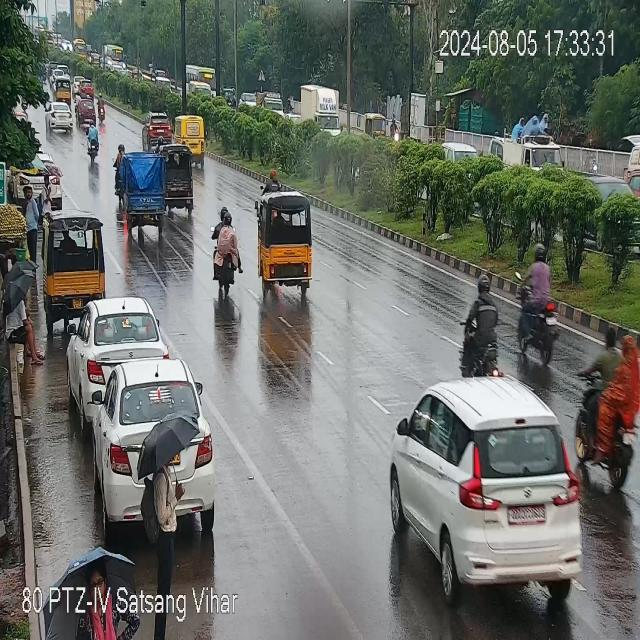2-wheelers: (574, 328, 638, 496), (459, 280, 505, 380), (518, 254, 556, 358), (210, 207, 240, 293), (85, 125, 103, 162), (94, 94, 110, 123)
auto: (256, 192, 320, 292), (113, 150, 194, 228), (46, 216, 108, 312), (504, 132, 567, 174), (178, 117, 210, 164), (51, 71, 76, 102), (365, 111, 385, 140)
bus: (103, 41, 124, 70), (73, 38, 88, 62)
car: (392, 380, 573, 597), (76, 361, 220, 539), (70, 298, 166, 399), (45, 98, 78, 132), (140, 112, 173, 140), (78, 97, 96, 125), (74, 74, 94, 99)
pedestrian: (145, 426, 182, 592), (85, 566, 129, 640), (6, 276, 42, 364), (22, 183, 45, 258), (41, 170, 52, 219)
truck: (301, 84, 339, 133), (184, 63, 219, 97)
